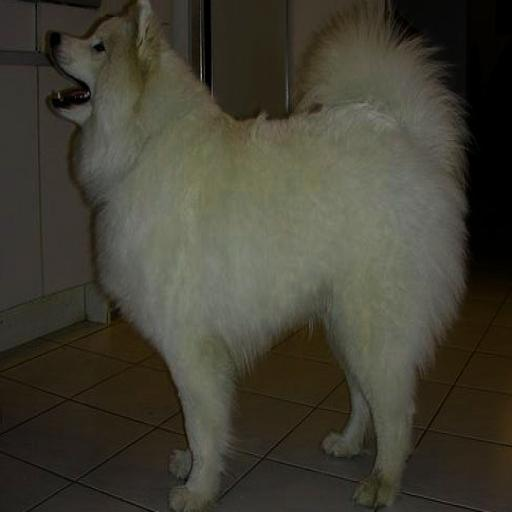dog_face: (47, 4, 164, 140)
